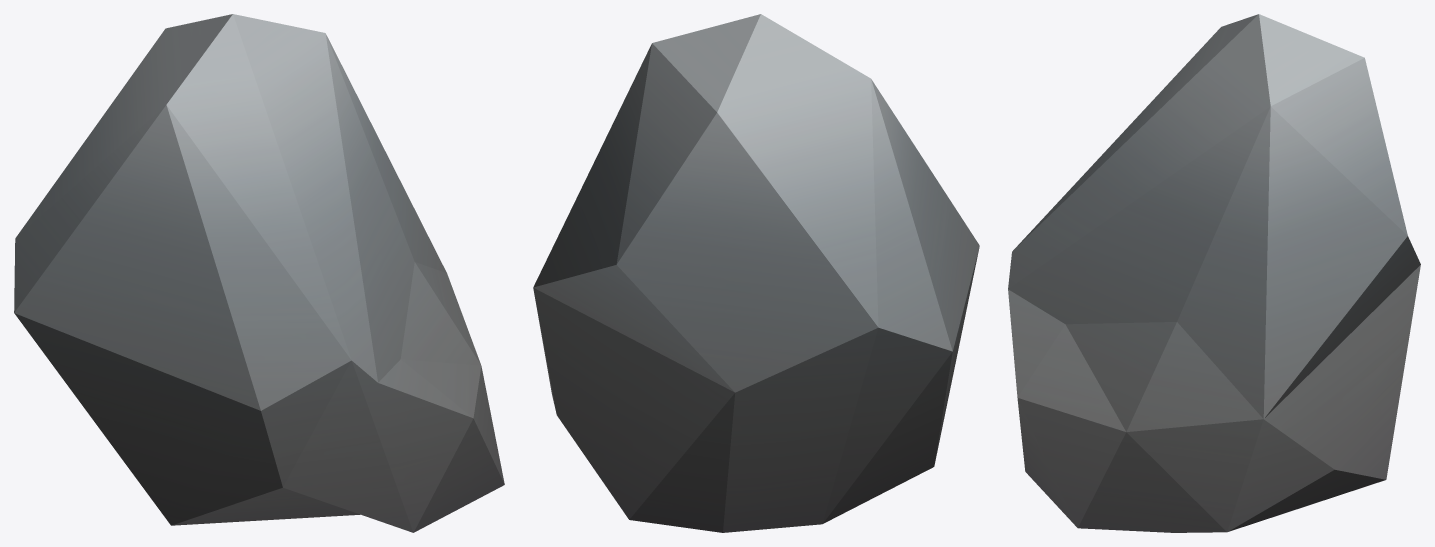
The model's file is Gradient_Boulder_02.glb.
3 views of the same model, side by side, from view 1: azimuth 30°, elevation 25°; view 2: azimuth 150°, elevation 25°; view 3: azimuth 270°, elevation 25° (orthographic). The views are drawn at different scales.
Parts seen in each view (by area): view 1: Boulder 02 g; view 2: Boulder 02 g; view 3: Boulder 02 g.
Boxes of the visible parts, <box> form: Boulder 02 g: <box>14,14,504,532</box>; Boulder 02 g: <box>533,14,979,532</box>; Boulder 02 g: <box>1008,14,1420,532</box>.
Bounding box in the file's own units: 12.9 × 13.42 × 11.4.
1 material, 1 textured.
